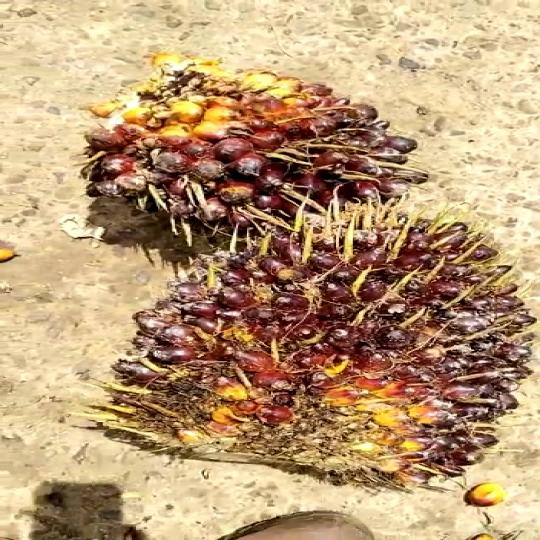kurang masak: (97, 181, 535, 507), (90, 46, 463, 276)
